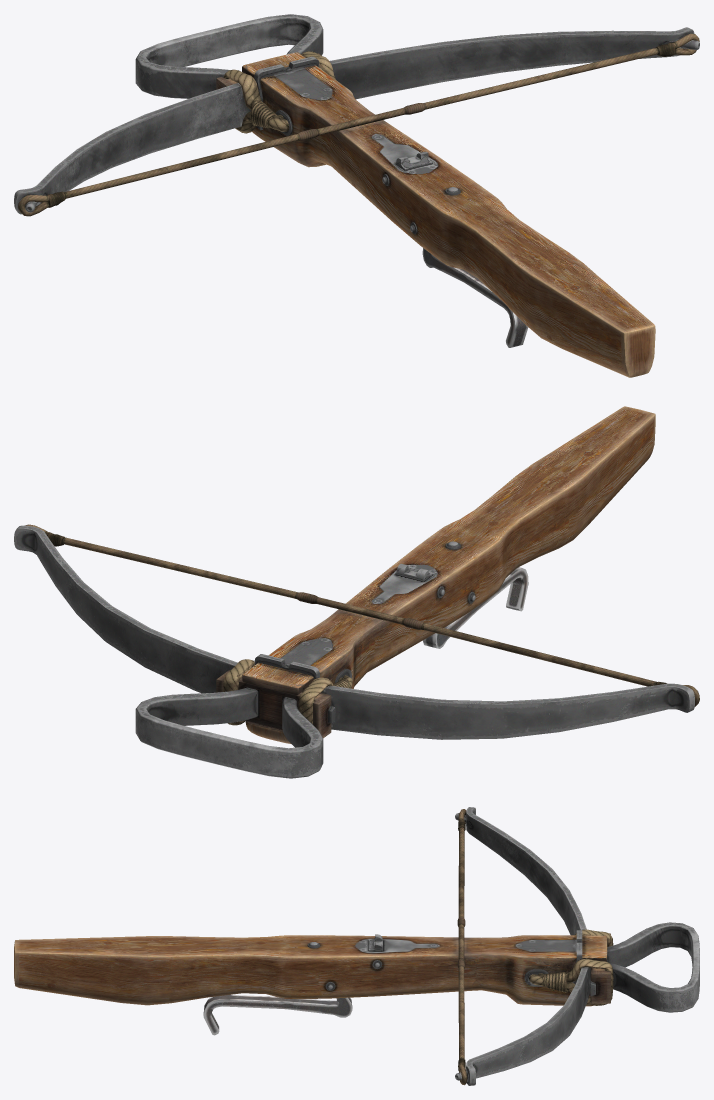
Rendered from Crossbow_01.fbx.
3 views of the same model, one above another, from view 1: azimuth 30°, elevation 25°; view 2: azimuth 150°, elevation 25°; view 3: azimuth 270°, elevation 25° (orthographic). The views are drawn at different scales.
Visible parts, largest first — view 1: Crossbow_01_LOD0; view 2: Crossbow_01_LOD0; view 3: Crossbow_01_LOD0.
Part boxes in pixels (x1=…): Crossbow_01_LOD0: x1=14, y1=14, x2=699, y2=377; Crossbow_01_LOD0: x1=14, y1=406, x2=699, y2=778; Crossbow_01_LOD0: x1=14, y1=807, x2=699, y2=1085.
Size of what is drawn, in the model's own units: 66.7 by 11.15 by 72.78.
